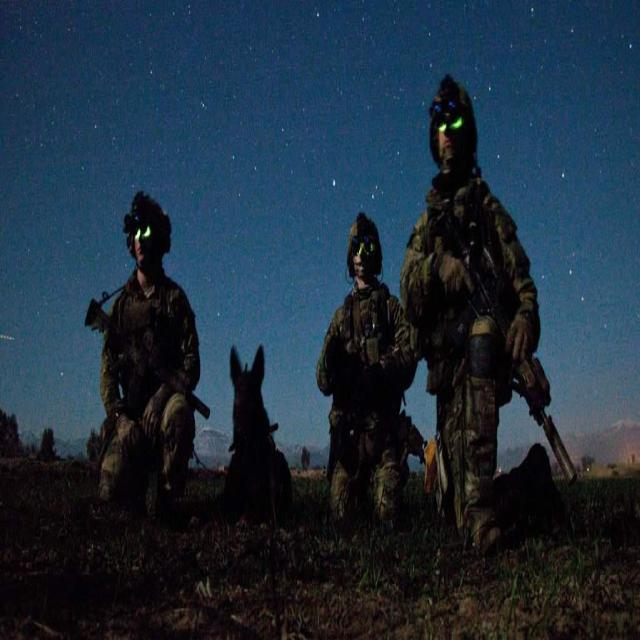Militant: (397, 70, 571, 578), (84, 154, 214, 559), (314, 192, 422, 534)
